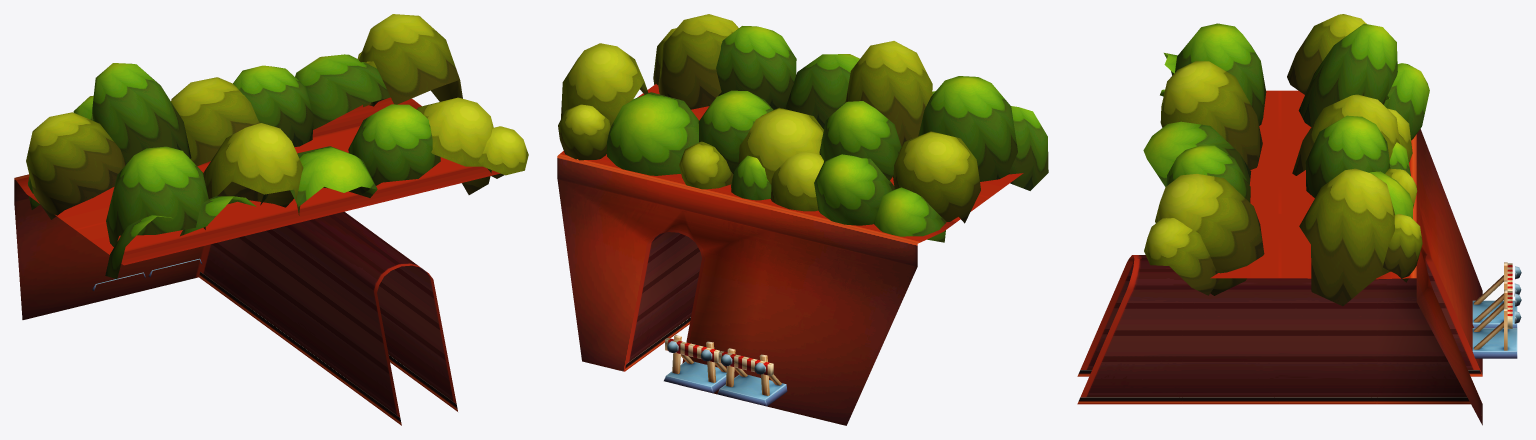
Rendered from tunnel_1.fbx.
The picture shows the model from 3 angles, left to right: view 1: azimuth 30°, elevation 25°; view 2: azimuth 150°, elevation 25°; view 3: azimuth 270°, elevation 25°; orthographic projection. The views are drawn at different scales.
Visible parts, largest first — view 1: tunnel_1_obj; view 2: tunnel_1_obj; view 3: tunnel_1_obj.
Boxes of the visible parts, box(x1,y1,x2,y2) form: tunnel_1_obj: box(14, 14, 528, 425); tunnel_1_obj: box(557, 14, 1048, 425); tunnel_1_obj: box(1077, 14, 1521, 425).
Size of the model in its own units: 15200 by 9690 by 13696.
1 material, 1 textured.
